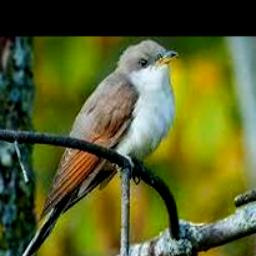Cuckoo: (0, 38, 177, 256)
